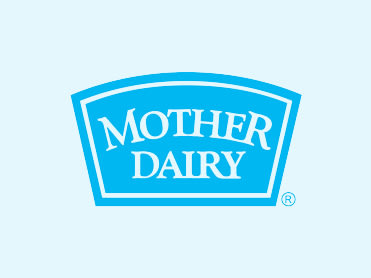Mother_Dairy: (54, 70, 317, 215)
